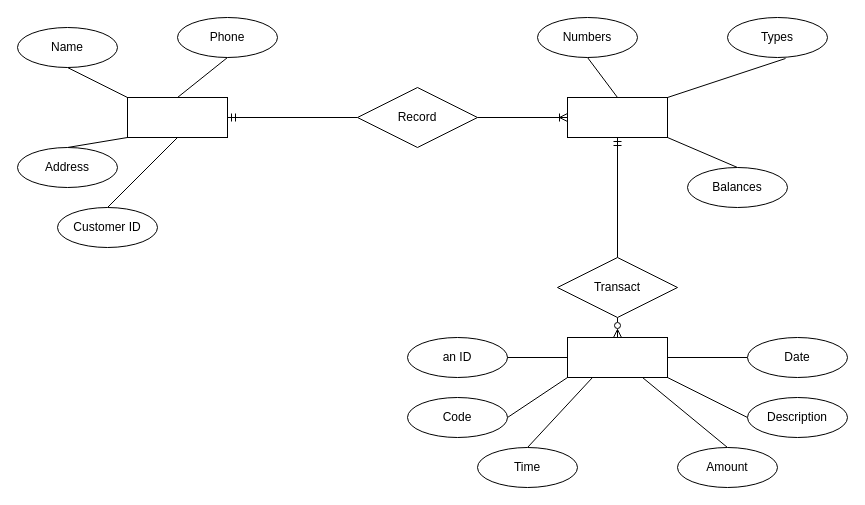
Some shapes in this 865 by 505 pixel diagram are drawn without their labels. Here are the shapes that lost their labels. From the top down, the box of each, then its label:
(126, 96, 228, 138): Customers
(566, 96, 668, 138): Accounts
(566, 336, 668, 378): Transaction
